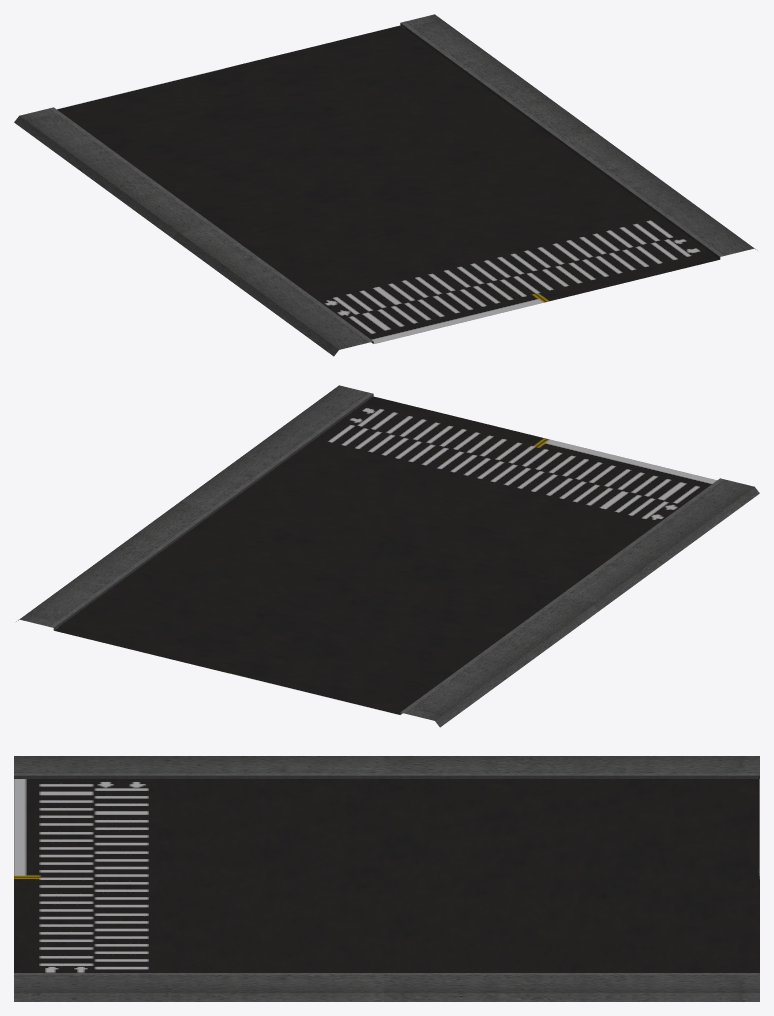
Rendered from RJs_Road 5+5 Basic Node.fbx.
3 renders of one model, top to bottom at view 1: azimuth 30°, elevation 25°; view 2: azimuth 150°, elevation 25°; view 3: azimuth 270°, elevation 25°, orthographic. The views are drawn at different scales.
Parts seen in each view (by area): view 1: plane; view 2: plane; view 3: plane.
Part boxes in pixels (x1,y1,x2,y2): plane: [14, 14, 757, 356]; plane: [16, 385, 759, 727]; plane: [14, 756, 759, 1001].
Size of the model in its own units: 4920 by 60.1 by 6400.
